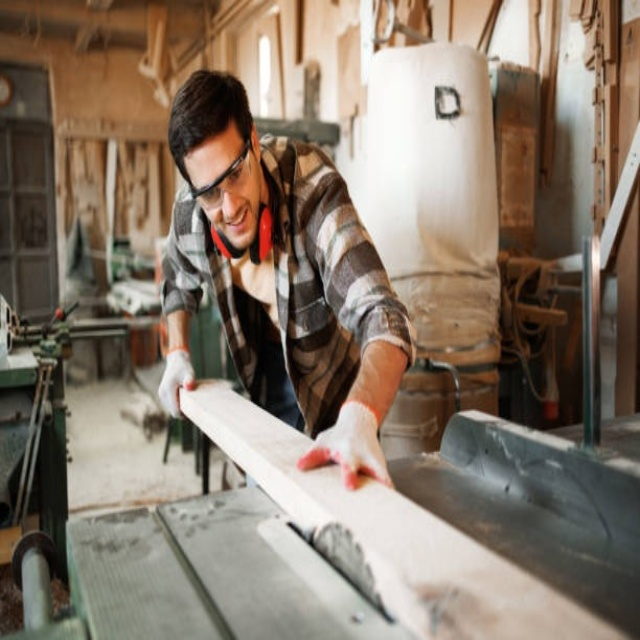Gafas: (188, 135, 252, 208)
Guantes: (299, 398, 391, 492), (159, 347, 196, 420)
Sin_mascara: (221, 199, 255, 249)
